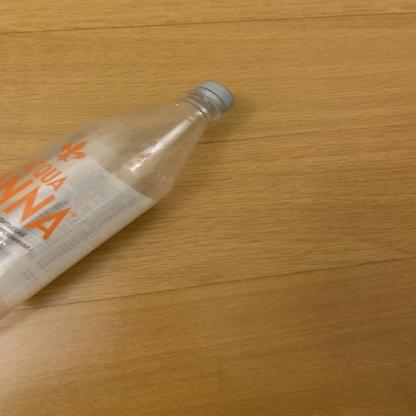trash: (1, 76, 255, 321)
